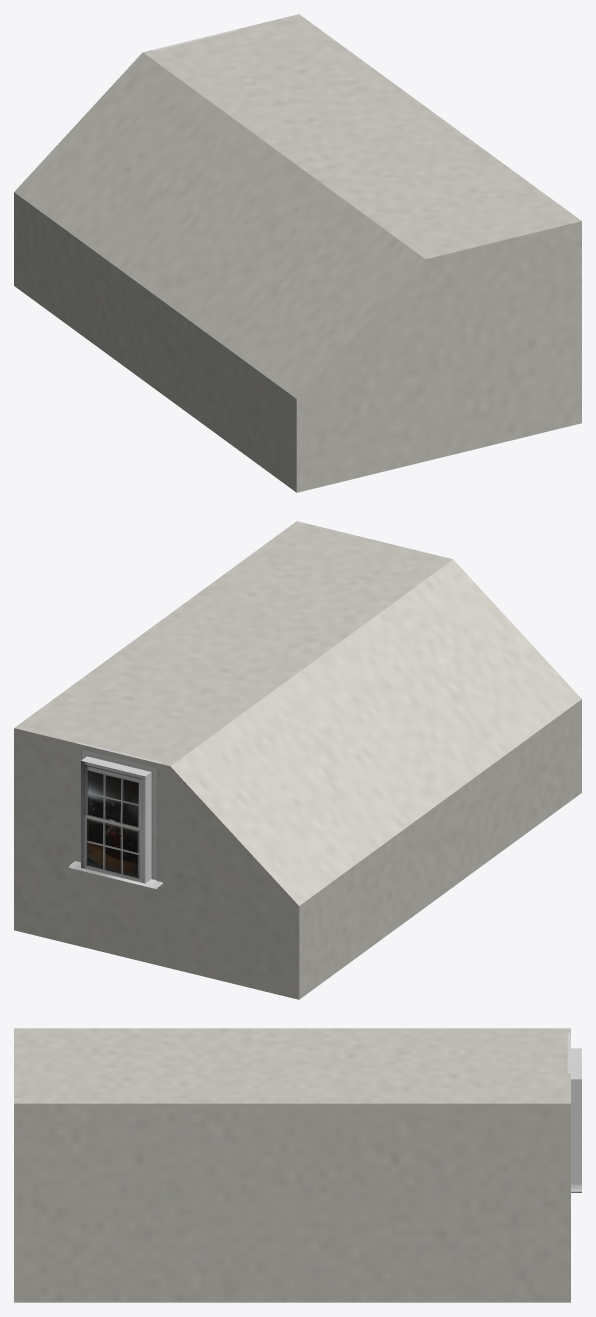
File: room.obj
3 renders of one model, top to bottom at view 1: azimuth 30°, elevation 25°; view 2: azimuth 150°, elevation 25°; view 3: azimuth 270°, elevation 25°, orthographic.
Parts seen in each view (by area): view 1: Box001; view 2: Box001, Object022, Object021; view 3: Box001, Object021.
Part boxes in pixels (x1=…): Box001: x1=14, y1=14, x2=581, y2=492; Box001: x1=14, y1=521, x2=581, y2=999; Object022: x1=81, y1=761, x2=145, y2=883; Object021: x1=69, y1=742, x2=162, y2=888; Box001: x1=14, y1=1028, x2=570, y2=1302; Object021: x1=567, y1=1032, x2=581, y2=1192.
Bounding box in the file's own units: 29.2 × 19.78 × 51.16.
8 materials, 7 textured.
